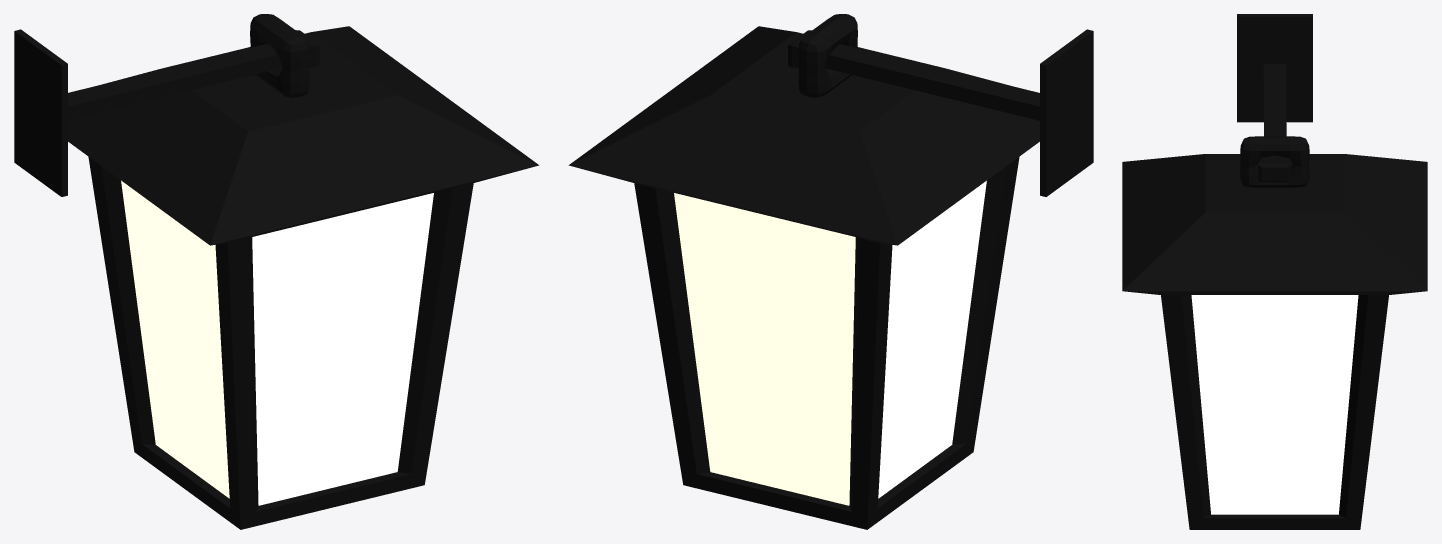
Rendered from lantern.fbx.
3 renders of one model, left to right at view 1: azimuth 30°, elevation 25°; view 2: azimuth 150°, elevation 25°; view 3: azimuth 270°, elevation 25°, orthographic. The views are drawn at different scales.
Visible parts, largest first — view 1: Lantern, WallHanger, Handle; view 2: Lantern, WallHanger, Handle; view 3: Lantern, WallHanger, Handle.
Part boxes in pixels (x1,y1,x2,y2): Lantern: (68,26,539,529); WallHanger: (14,29,319,196); Handle: (250,14,309,97); Lantern: (568,26,1039,529); WallHanger: (788,29,1093,196); Handle: (798,14,857,97); Lantern: (1122,154,1427,529); WallHanger: (1237,14,1312,181); Handle: (1240,136,1309,187).
Bounding box in the file's own units: 330 × 399 × 268.
